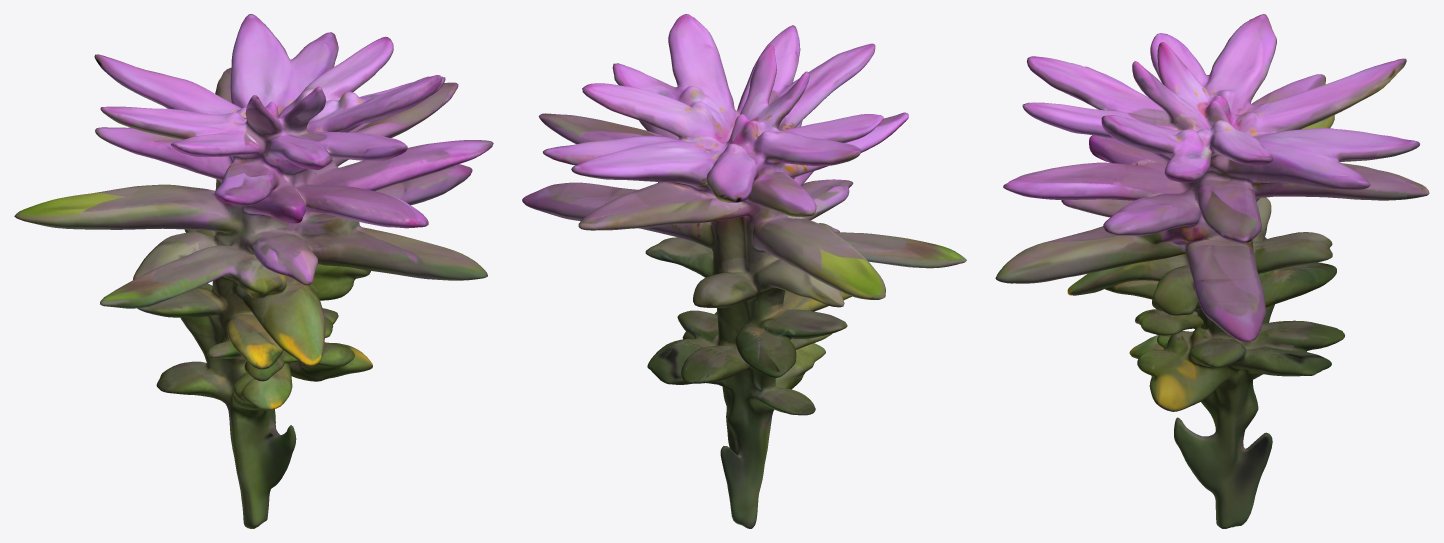
Rendered from herb0057_dup.gltf.
3 renders of one model, left to right at view 1: azimuth 30°, elevation 25°; view 2: azimuth 150°, elevation 25°; view 3: azimuth 270°, elevation 25°, orthographic. The views are drawn at different scales.
Parts seen in each view (by area): view 1: Mesh_0.021; view 2: Mesh_0.021; view 3: Mesh_0.021.
Boxes of the visible parts, x1,y1,x2,y2 form: Mesh_0.021: (14, 14, 493, 528); Mesh_0.021: (522, 14, 966, 528); Mesh_0.021: (995, 14, 1429, 528).
Bounding box in the file's own units: 1.87 × 2 × 1.64.
Materials: 1 (1 with a texture image).
